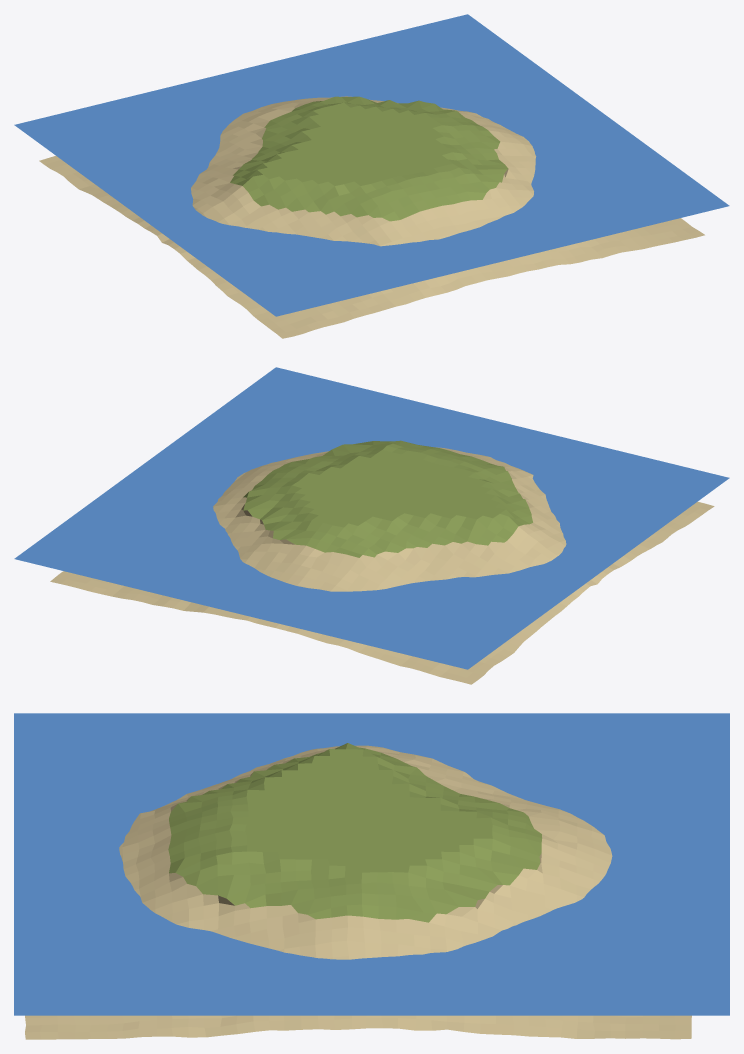
File: island.fbx
3 views of the same model, one above another, from view 1: azimuth 30°, elevation 25°; view 2: azimuth 150°, elevation 25°; view 3: azimuth 270°, elevation 25° (orthographic). The views are drawn at different scales.
Visible parts, largest first — view 1: sea, island; view 2: sea, island; view 3: sea, island.
Part boxes in pixels (x1=…): sea: x1=14, y1=14, x2=729, y2=316; island: x1=39, y1=96, x2=704, y2=338; sea: x1=14, y1=367, x2=729, y2=669; island: x1=50, y1=440, x2=714, y2=684; sea: x1=14, y1=713, x2=729, y2=1015; island: x1=25, y1=743, x2=691, y2=1039.
Size of the model in its own units: 5913 by 687 by 5913.
